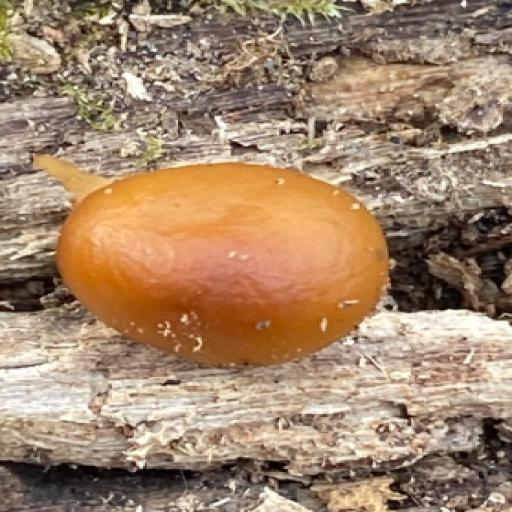mushroom: (28, 144, 401, 367)
